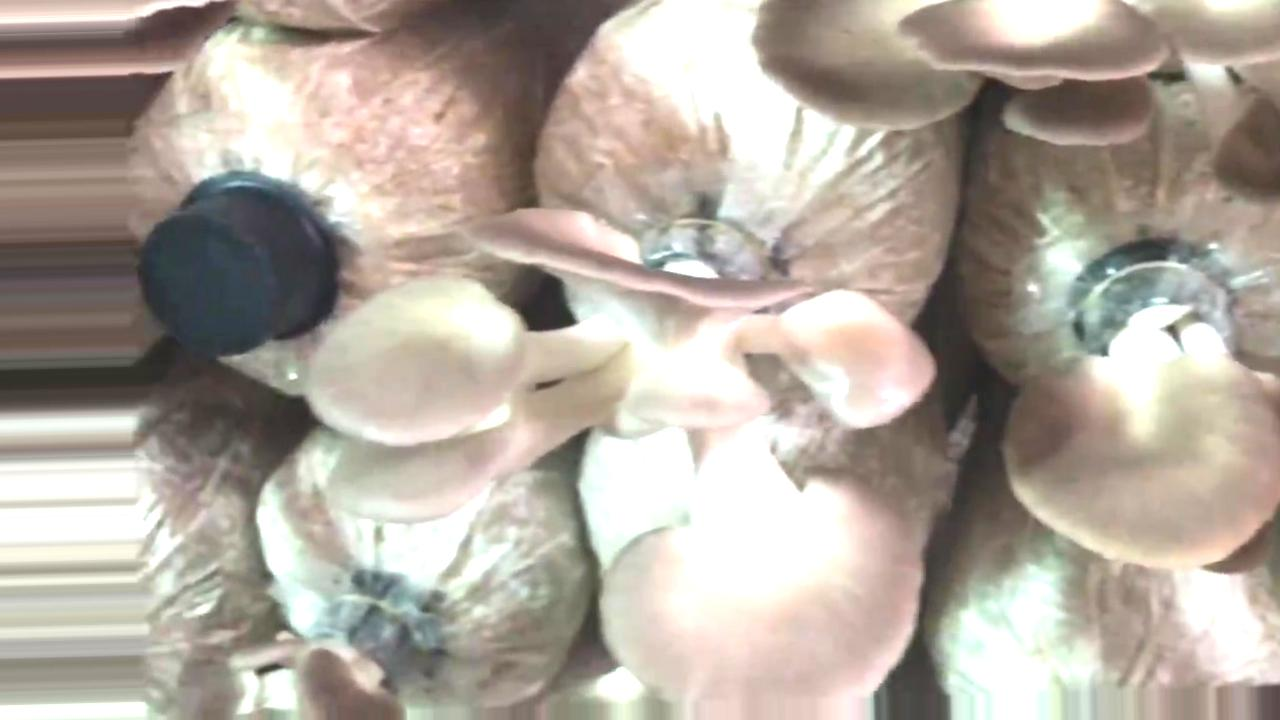nam: (305, 202, 946, 720), (1002, 231, 1280, 574), (742, 3, 1280, 153)
